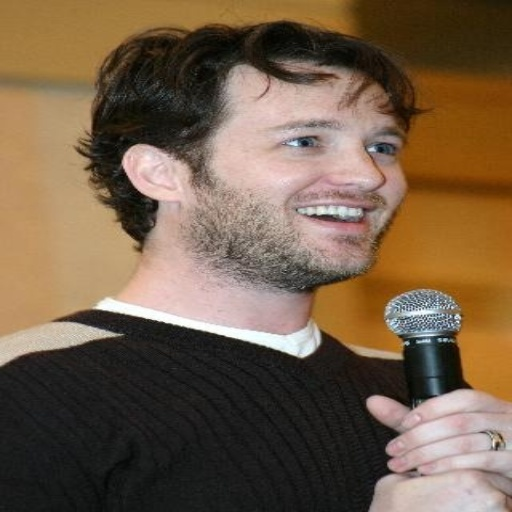hand: (371, 377, 505, 491), (368, 467, 510, 510)
